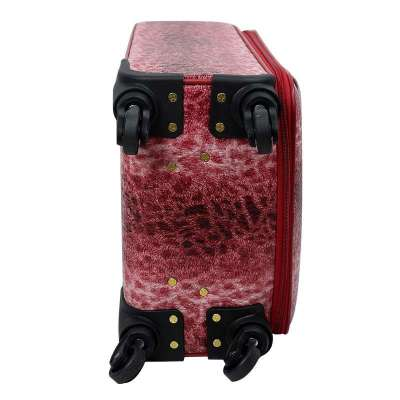suitcase: (108, 18, 306, 385)
